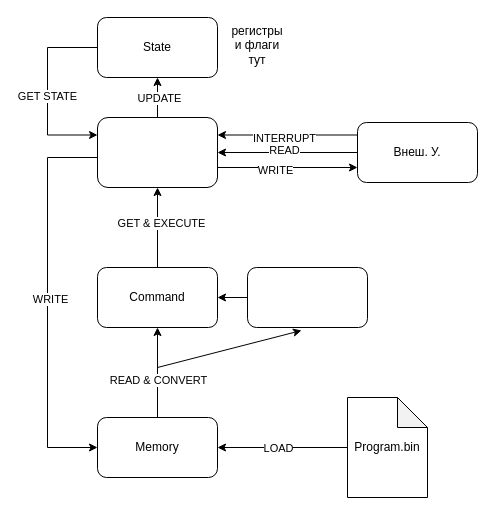
The diagram is 495 pixels wide and 515 high, and some of its shapes have lost their labels. The centre of each missing label's shape, as x and y in pixels:
"Argumnets" goes at point 307,297.
"Executor" goes at point 157,152.
